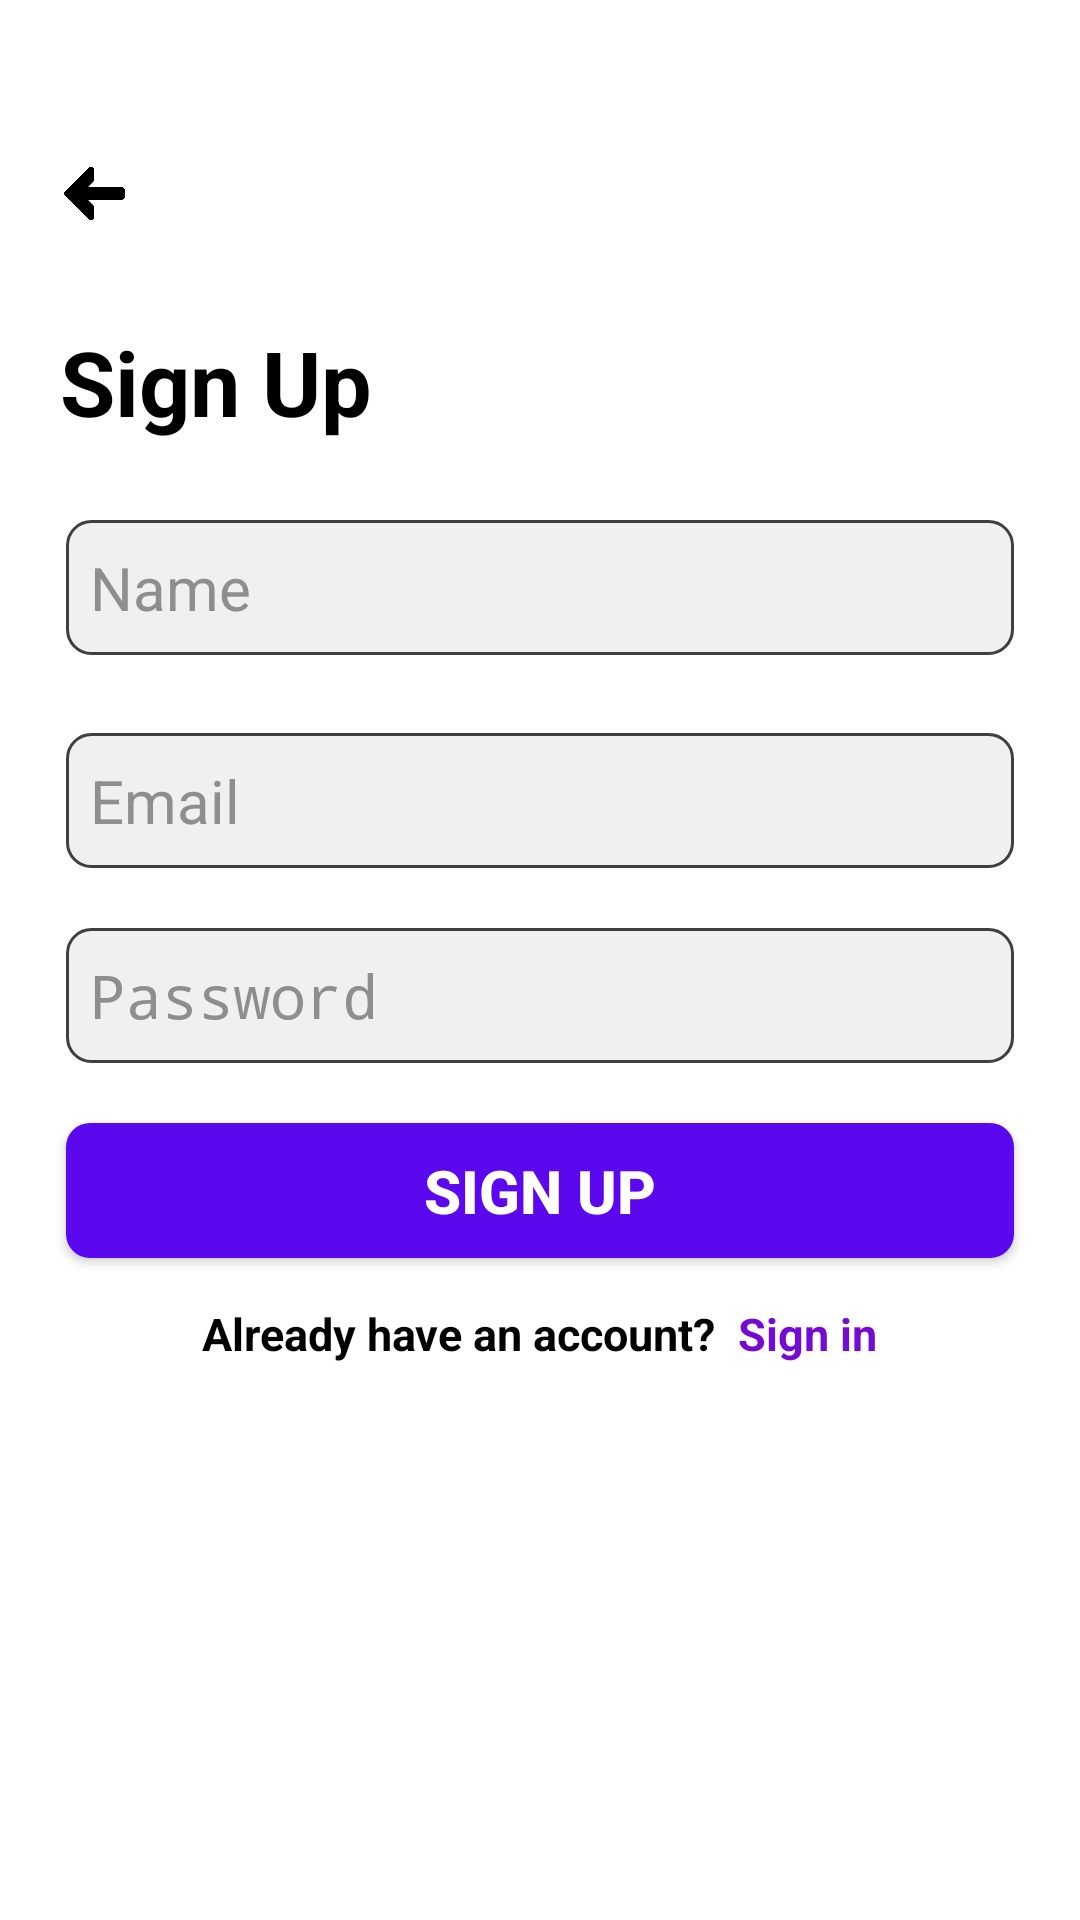

Named icons in this screenshot (1080px x 1920px) and their bounding boxes, (x1, y1, x2, y2):
back: (64, 167, 125, 220)
